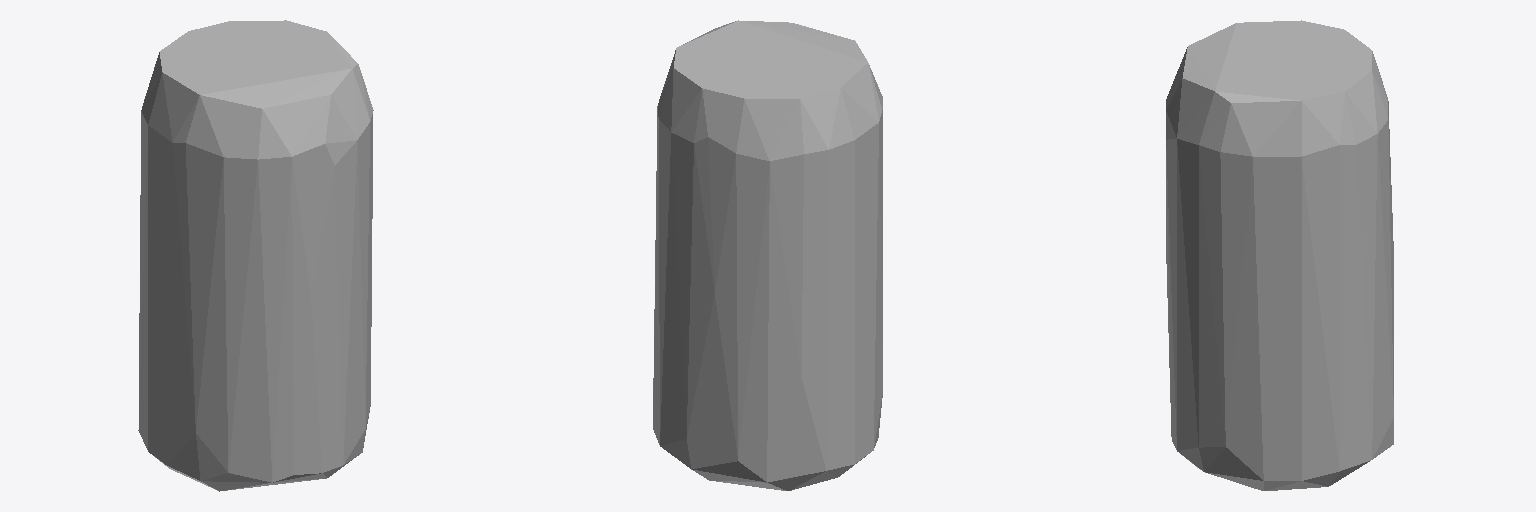
URDF robot description (root):
<robot name="root">
  <link name="link_bf974687b678c66e93fb5c975e8de2b7_convex_piece_0">
    <inertial>
      <origin rpy="0 0 0" xyz="0 0 0"/>
      <mass value="1.23E-04"/>
      <inertia ixx="8.23E-08" ixy="-4.30E-11" ixz="5.92E-12" iyy="8.21E-08" iyz="-1.08E-09" izz="3.15E-08"/>
    </inertial>
    <visual>
      <origin rpy="0 0 0" xyz="0 0 0"/>
      <geometry>
        <mesh filename="bf974687b678c66e93fb5c975e8de2b7_convex_piece_0.obj" scale="1.0000E+00"/>
      </geometry>
      <material name="">
        <color rgba="7.50E-01 7.50E-01 7.50E-01 1"/>
      </material>
    </visual>
    <collision>
      <origin rpy="0 0 0" xyz="0 0 0"/>
      <geometry>
        <mesh filename="bf974687b678c66e93fb5c975e8de2b7_convex_piece_0.obj" scale="1.0000E+00"/>
      </geometry>
    </collision>
  </link>
</robot>

--- What the picture shows (computed from the rendered views, not written in the file) ---
3 views of the same robot in one strip: view 1: azimuth 30°, elevation 25°; view 2: azimuth 150°, elevation 25°; view 3: azimuth 270°, elevation 25° (orthographic).
Robot: root — 1 links, 0 joints (none); root link link_bf974687b678c66e93fb5c975e8de2b7_convex_piece_0; default pose: all joints at 0.
Visible links, largest first — view 1: link_bf974687b678c66e93fb5c975e8de2b7_convex_piece_0; view 2: link_bf974687b678c66e93fb5c975e8de2b7_convex_piece_0; view 3: link_bf974687b678c66e93fb5c975e8de2b7_convex_piece_0.
Boxes of the visible links, x1=… form: link_bf974687b678c66e93fb5c975e8de2b7_convex_piece_0: x1=138, y1=20, x2=373, y2=491; link_bf974687b678c66e93fb5c975e8de2b7_convex_piece_0: x1=653, y1=20, x2=882, y2=490; link_bf974687b678c66e93fb5c975e8de2b7_convex_piece_0: x1=1166, y1=20, x2=1393, y2=490.
Bounding box of the posed robot: 0.0448 × 0.0459 × 0.0875 m (x, y, z).
1 mesh visuals loaded from 1 distinct referenced files (1 OBJ).